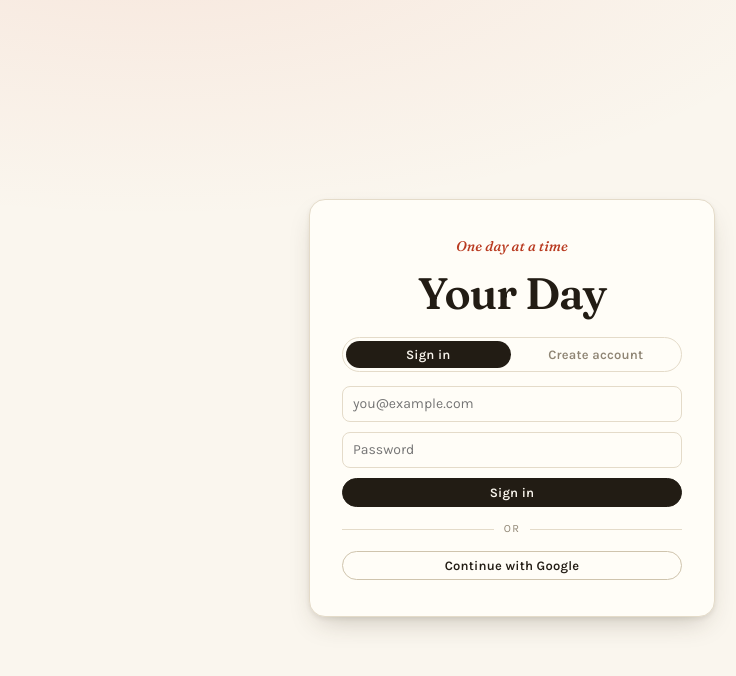
sign-up falls back to confirm notice when direct sign-in is rejected
Click the tab "Create account".
click(596, 354)  # box [514,341,678,368]
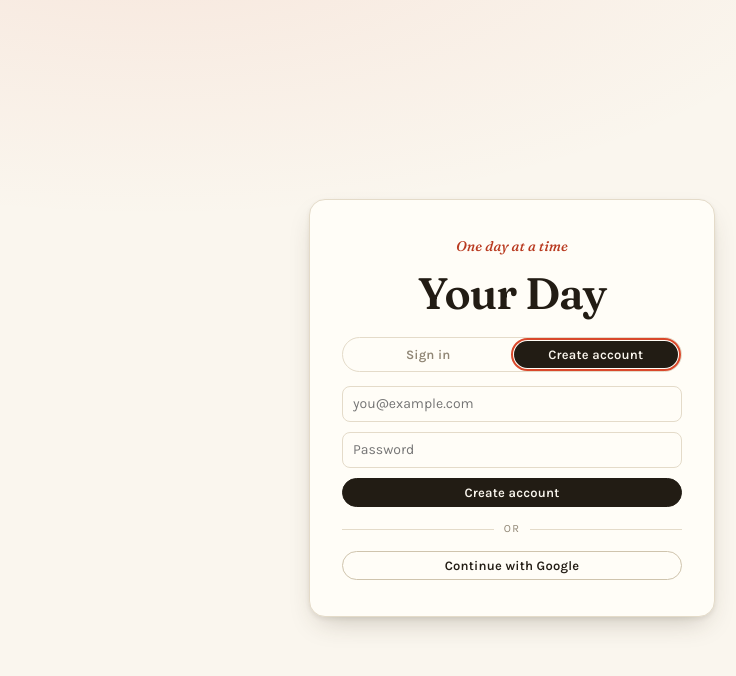
Type "new@example.com" into the field named "Email".
click(512, 404); type("new@example.com")  # box [342,386,682,422]
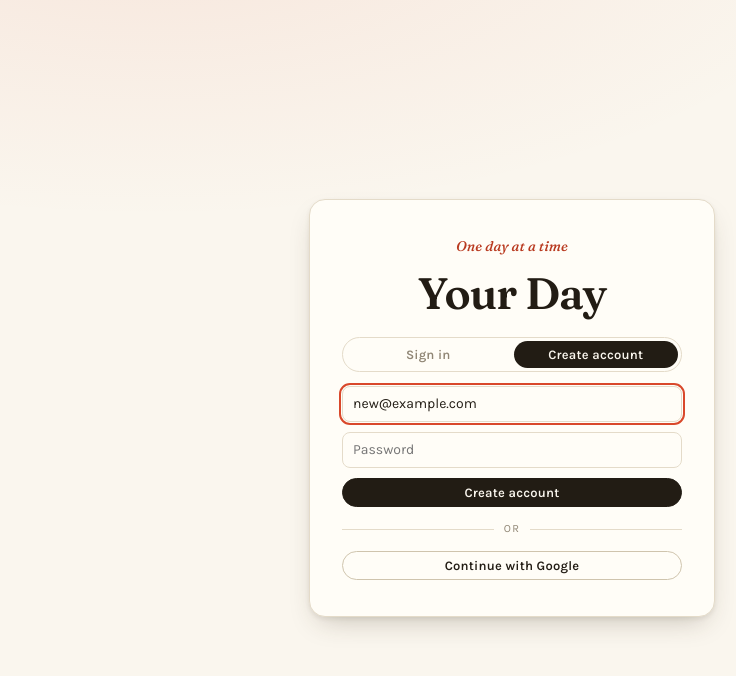
Type "hunter22" into the password field labelled "Password".
click(512, 450); type("hunter22")  # box [342,432,682,468]
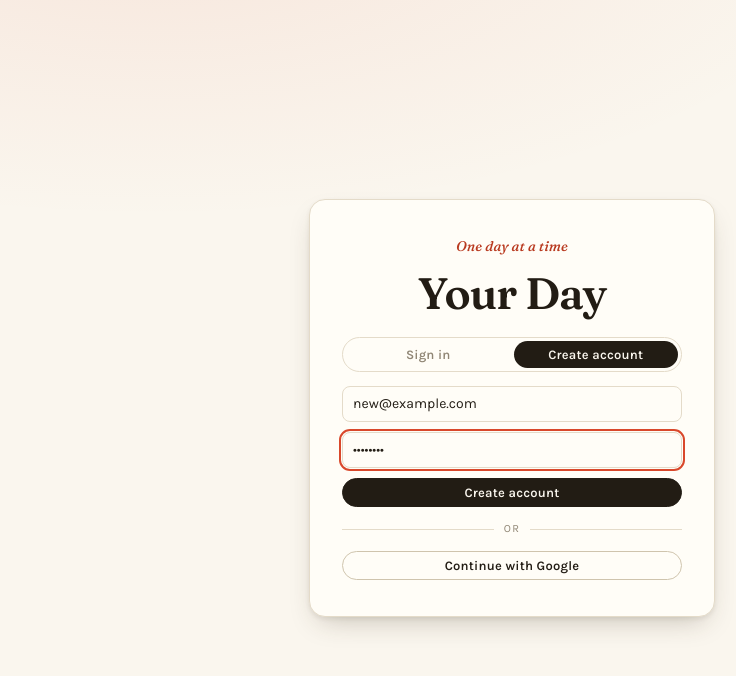
Click the button "Create account".
click(512, 492)  # box [342,478,682,507]
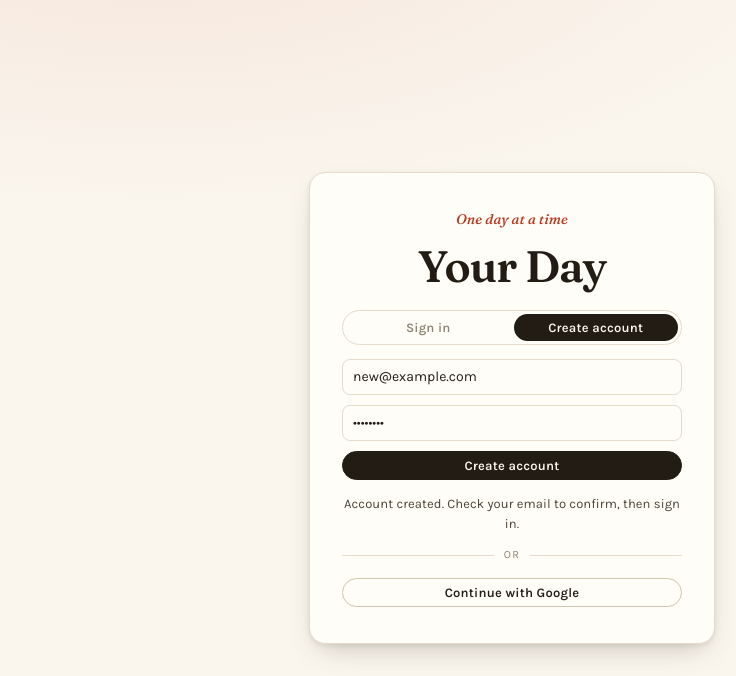
Expected: the text "Account created. Check your email to confirm, then sign in." is shown, [342,494,682,533]
